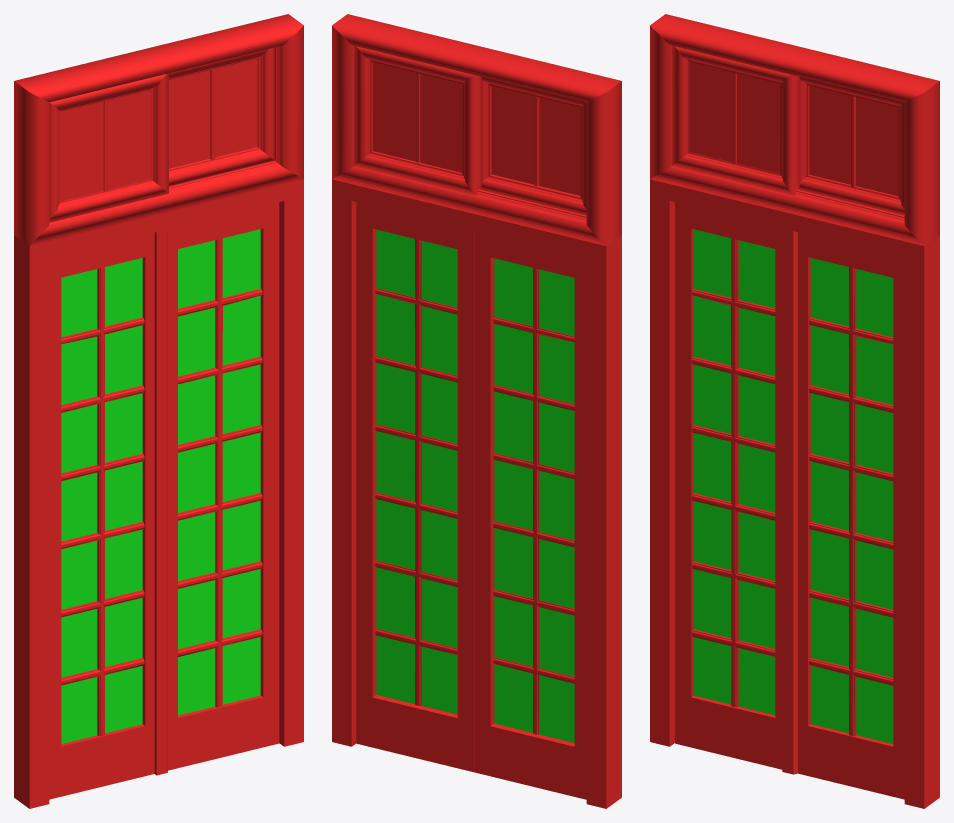
Rendered from Door04_main.fbx.
The picture shows the model from 3 angles, left to right: view 1: azimuth 30°, elevation 25°; view 2: azimuth 150°, elevation 25°; view 3: azimuth 330°, elevation 25°; orthographic projection.
Visible parts, largest first — view 1: G02_low002, Object017, Object018; view 2: G02_low002, Object017, Object018; view 3: G02_low002, Object017, Object018.
Boxes of the visible parts, x1,y1,x2,y2 form: G02_low002: (14, 14, 303, 808); Object017: (154, 202, 279, 775); Object018: (49, 232, 154, 799); G02_low002: (332, 14, 621, 808); Object017: (356, 202, 474, 772); Object018: (474, 231, 586, 799); G02_low002: (650, 14, 939, 808); Object017: (782, 228, 904, 799); Object018: (675, 202, 782, 769).
Size of the model in its own units: 1 by 2.5 by 0.0982.
